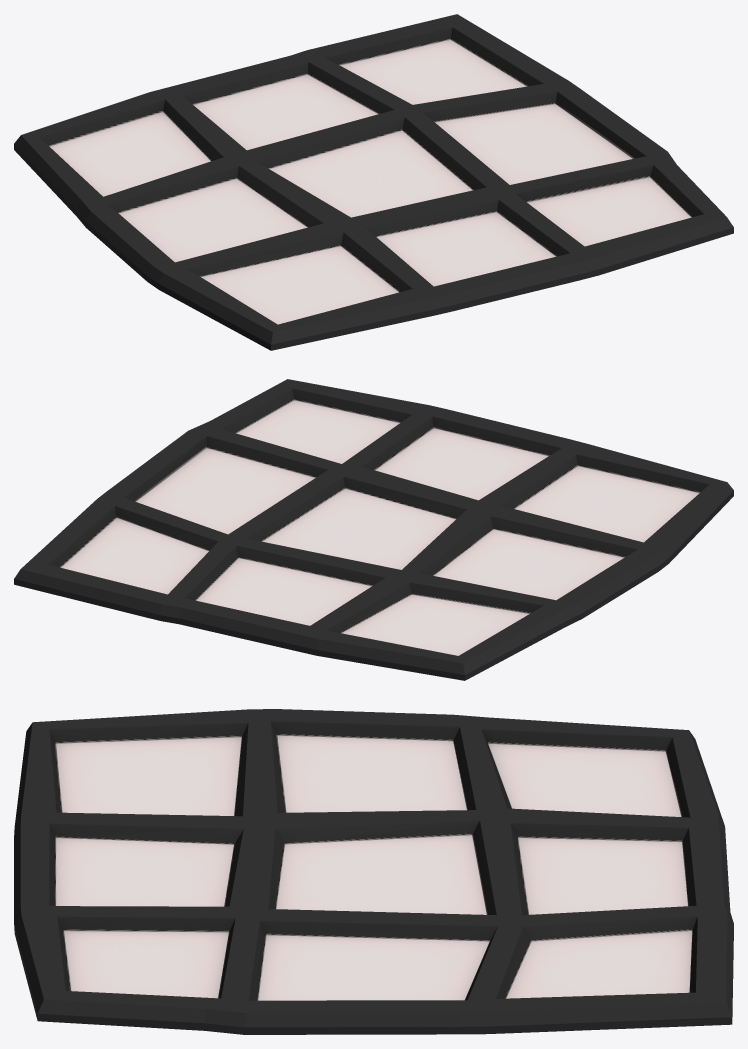
The model's file is Grille.FBX.
The picture shows the model from 3 angles, top to bottom: view 1: azimuth 30°, elevation 25°; view 2: azimuth 150°, elevation 25°; view 3: azimuth 270°, elevation 25°; orthographic projection. The views are drawn at different scales.
Visible parts, largest first — view 1: Grille; view 2: Grille; view 3: Grille.
Boxes of the visible parts, bbox=[...] form: Grille: bbox=[14, 14, 733, 350]; Grille: bbox=[14, 379, 733, 680]; Grille: bbox=[14, 709, 733, 1034].
Bounding box in the file's own units: 34.44 × 0.9993 × 33.86.
1 material, 1 textured.
